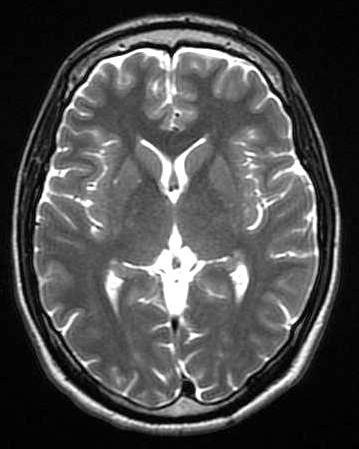Normal_Brain: (5, 3, 359, 449)
